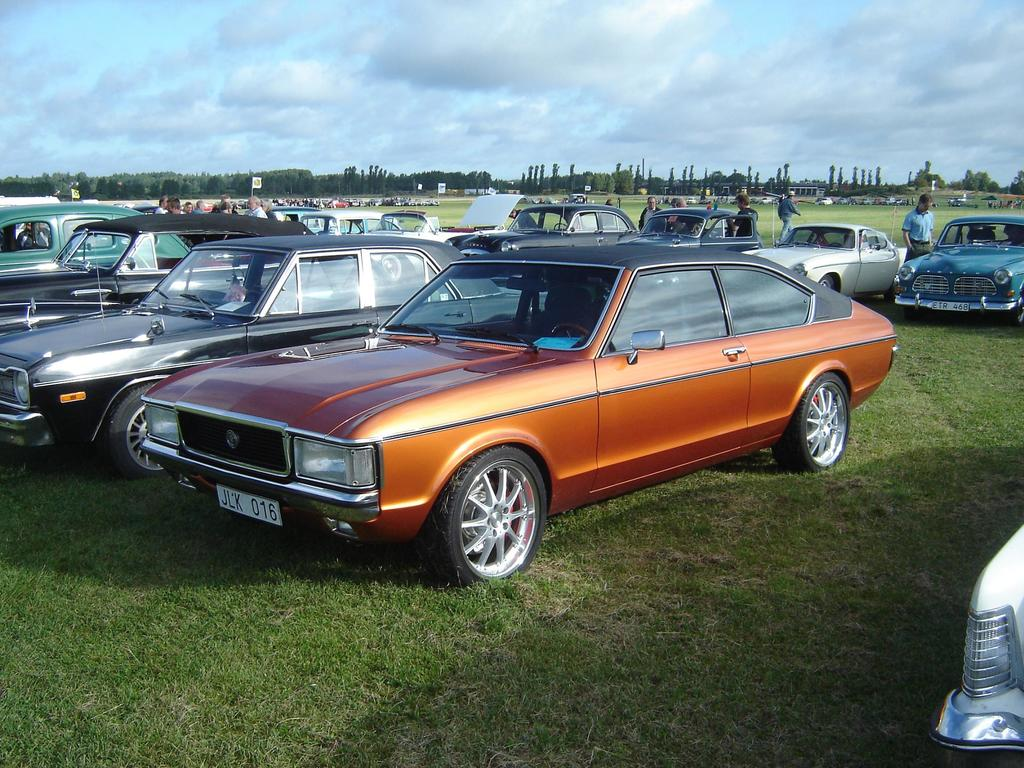Car: (32, 199, 1023, 763)
